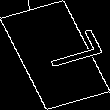L_W: (16, 31, 94, 79)
